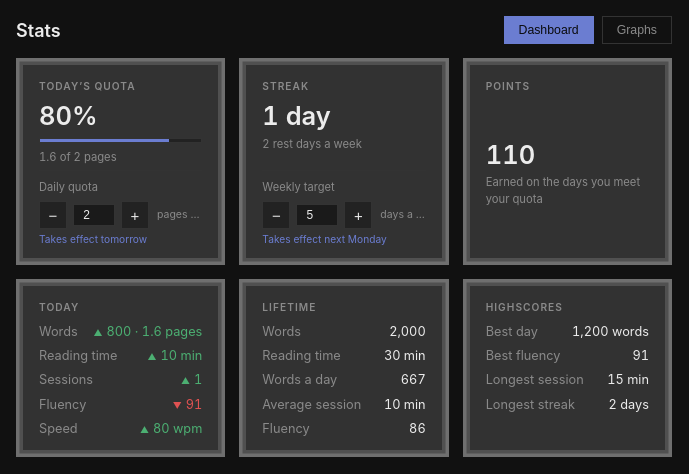
Scenario: Stats screen — Graphs tab, today drill-in › lists today’s sessions for the selected metric
The width and height of the screenshot is (689, 474).
Click the button "Graphs" at x=637, y=30, box [602,16,672,44]
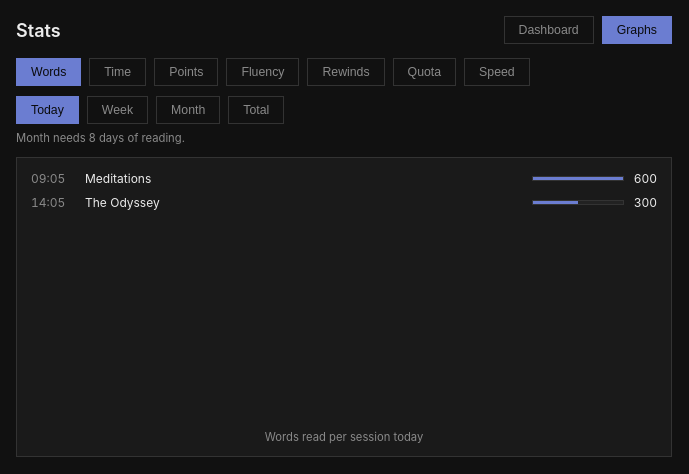
Result: the number of list items is 2 at [31,170,657,188]; [31,194,657,212]
Result: the list item "09:05 Meditations 600" is shown at [31,170,657,188]
Result: the list item "14:05 The Odyssey 300" is shown at [31,194,657,212]
Click the button "Speed" at x=497, y=72, box [464,58,530,86]
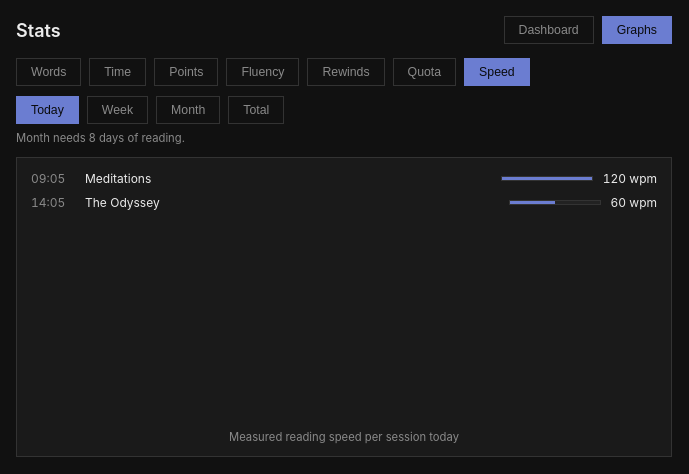
Result: the list item "09:05 Meditations 120 wpm" is shown at [31,170,657,188]
Result: the list item "14:05 The Odyssey 60 wpm" is shown at [31,194,657,212]
